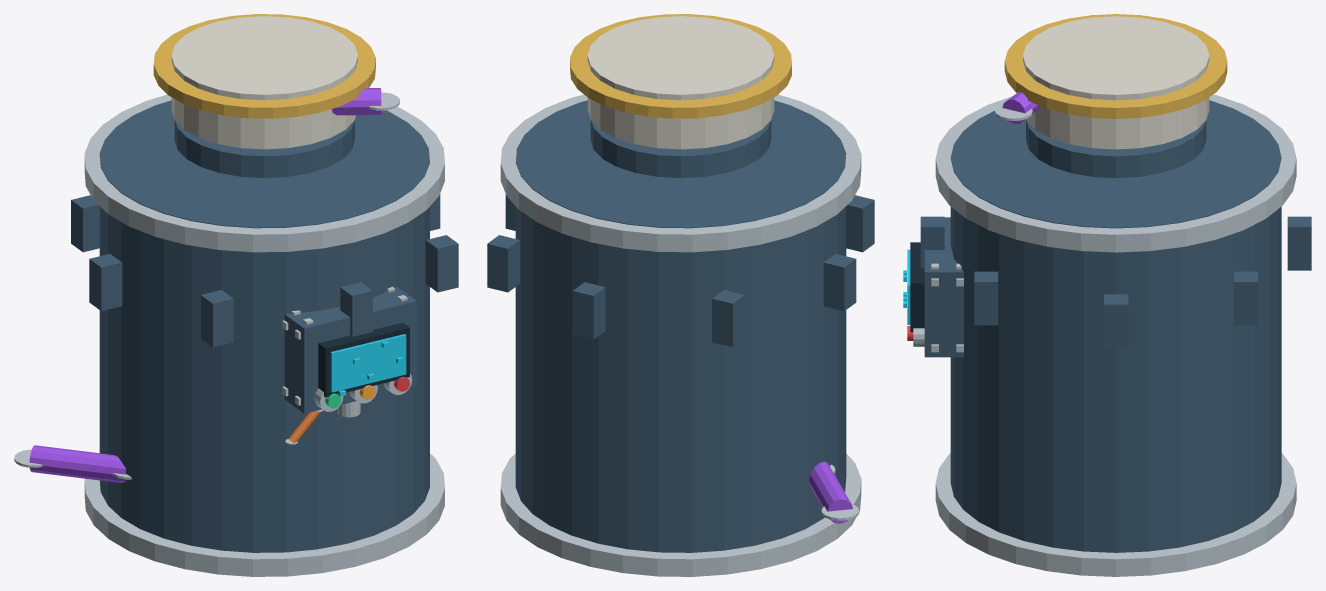
The model's file is 21_L78_VirtualCapPrecursorCartridge.fbx.
3 renders of one model, left to right at view 1: azimuth 30°, elevation 25°; view 2: azimuth 150°, elevation 25°; view 3: azimuth 270°, elevation 25°, orthographic.
Visible parts, largest first — view 1: VirtualCapPrecursorCartridge, VirtualCapPrecursorCartridge_Part_0049; view 2: VirtualCapPrecursorCartridge, VirtualCapPrecursorCartridge_Part_0049; view 3: VirtualCapPrecursorCartridge, VirtualCapPrecursorCartridge_Part_0049.
Boxes of the visible parts, x1,y1,x2,y2 form: VirtualCapPrecursorCartridge: [14, 14, 458, 576]; VirtualCapPrecursorCartridge_Part_0049: [174, 120, 354, 178]; VirtualCapPrecursorCartridge: [487, 14, 874, 576]; VirtualCapPrecursorCartridge_Part_0049: [590, 120, 771, 178]; VirtualCapPrecursorCartridge: [903, 14, 1311, 576]; VirtualCapPrecursorCartridge_Part_0049: [1026, 120, 1206, 178].
Size of the model in its own units: 146 by 163 by 136.
